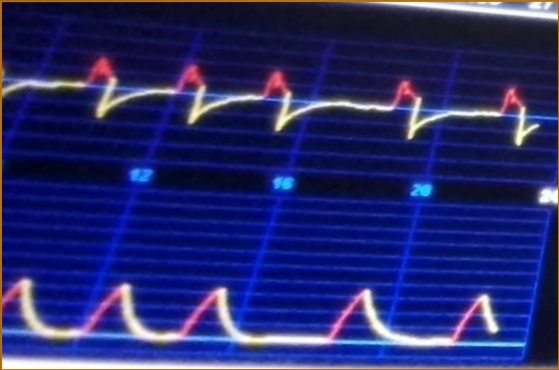Accumulation Flow: (4, 41, 542, 158)
Volume: (3, 246, 497, 354)
